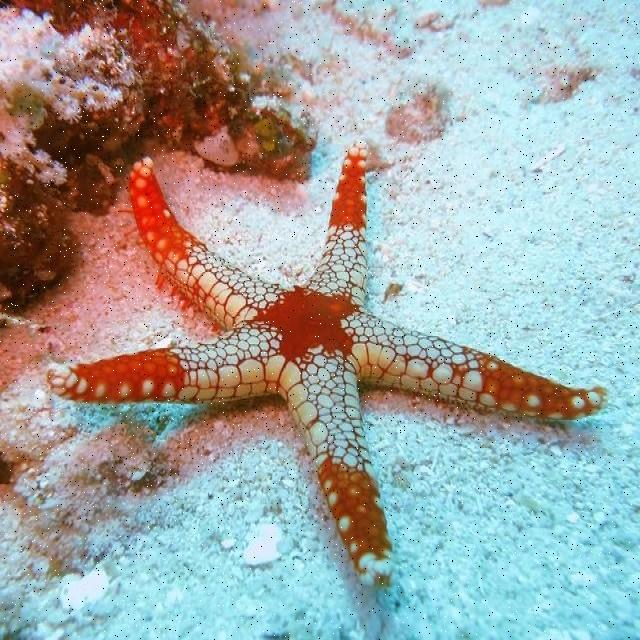fish: (46, 140, 605, 591)
